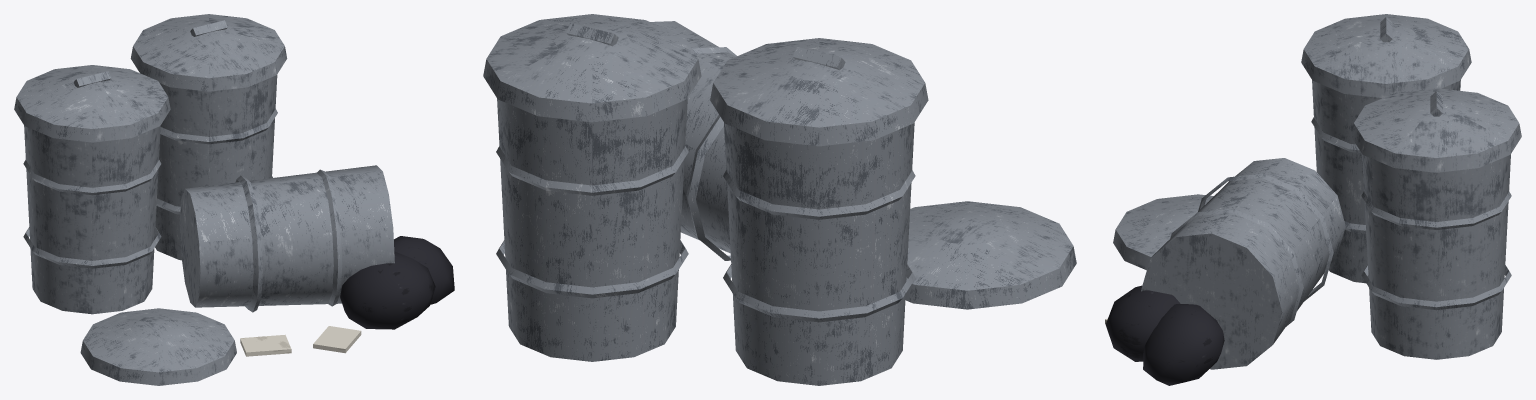
Rendered from trash_cans.glb.
3 renders of one model, left to right at view 1: azimuth 30°, elevation 25°; view 2: azimuth 150°, elevation 25°; view 3: azimuth 270°, elevation 25°, orthographic. The views are drawn at different scales.
Visible parts, largest first — view 1: Cans; view 2: Cans; view 3: Cans.
Boxes of the visible parts, x1=… form: Cans: x1=14, y1=14, x2=454, y2=385; Cans: x1=483, y1=14, x2=1076, y2=385; Cans: x1=1105, y1=14, x2=1521, y2=385.
Size of the model in its own units: 1.75 by 1.02 by 1.66.
Materials: 2 (2 with a texture image).
